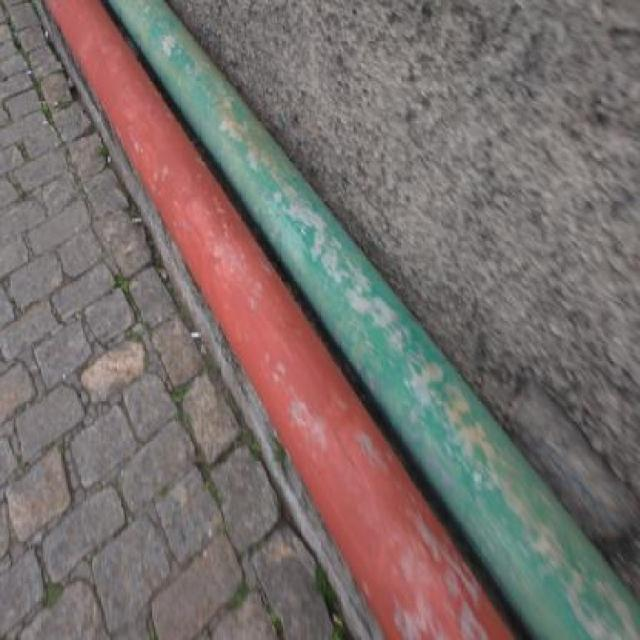gas: (111, 0, 638, 639), (43, 0, 514, 640)
